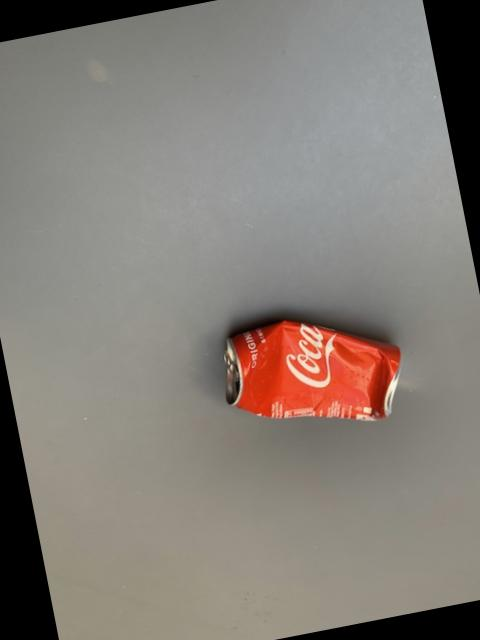metal: (221, 318, 397, 418)
